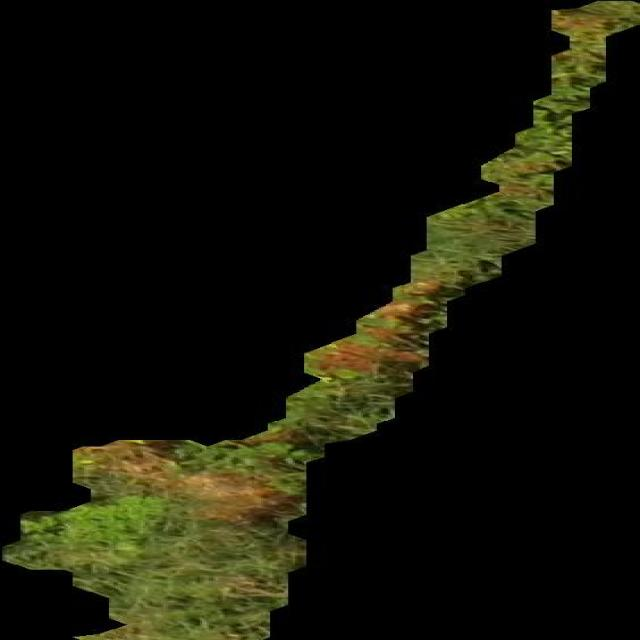Weed: (2, 1, 640, 640)
